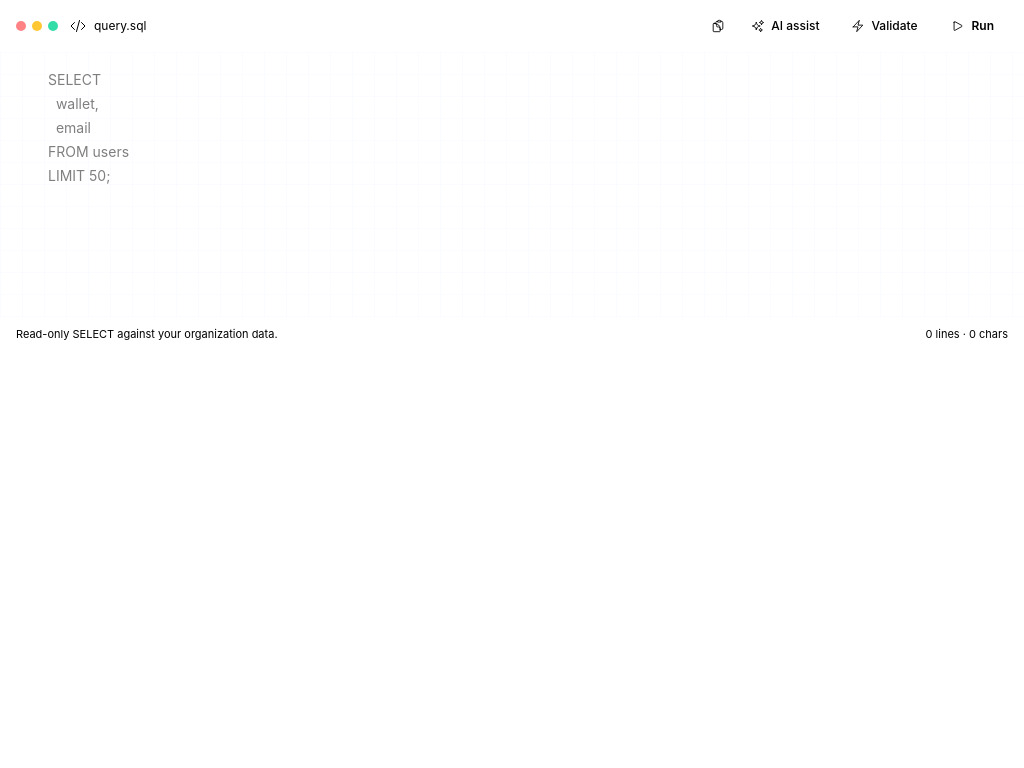
Test: QueryTab › loads starter queries into the editor via the AI assistant
What coordinates should you click on to do the following:
click the button with aria-label "AI SQL assistant"
I would click on:
 (785, 26)
Its box is [739,12,832,40].
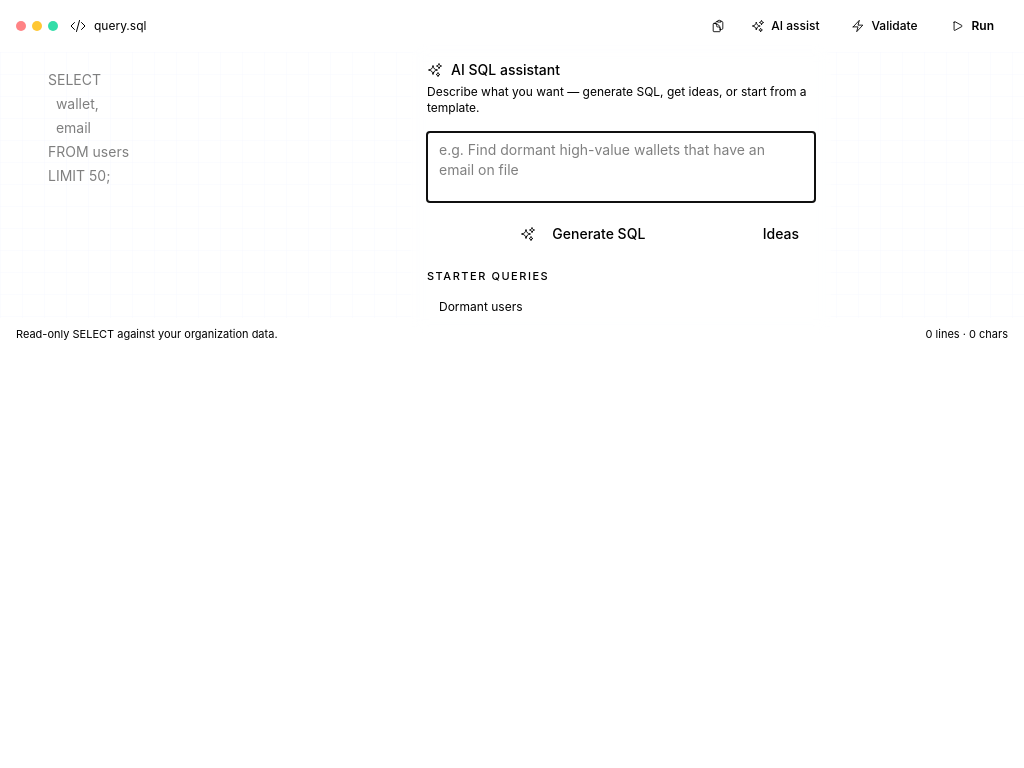
What coordinates should you click on to do the following:
click the button "Dormant users"
I would click on:
 (481, 306)
Its box is [427,292,534,320].
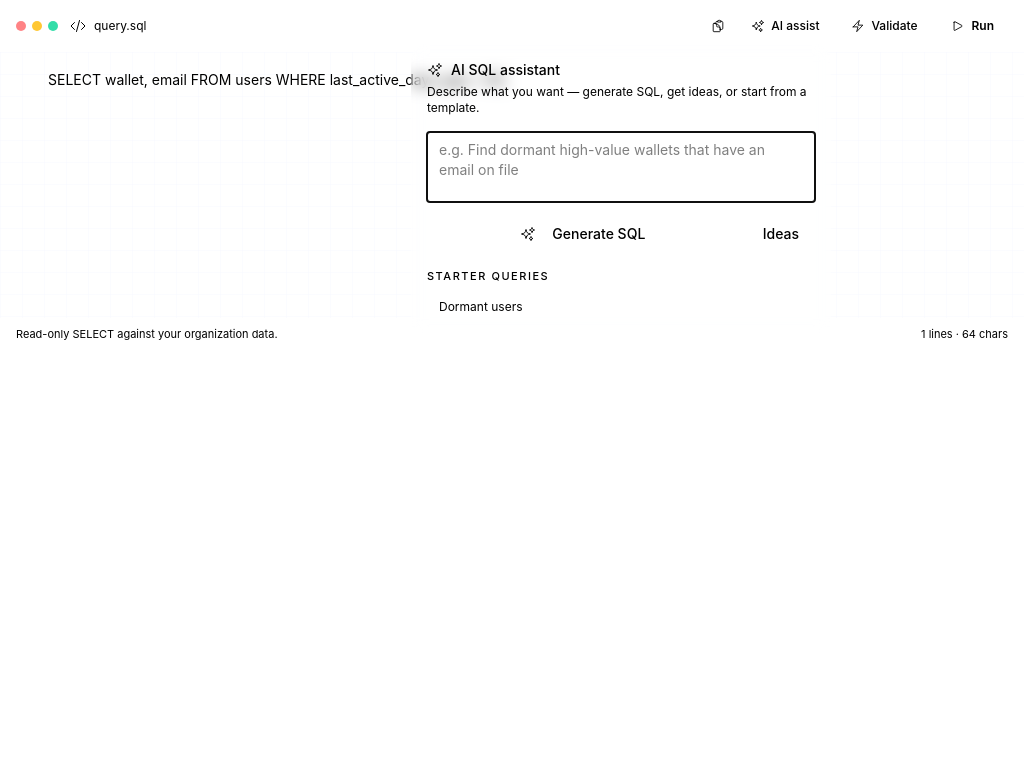
Expected: the text box named "SQL query editor" holds "SELECT wallet, email FROM users WHERE last_active_days_ago > 30;", [0,52,1023,312]
